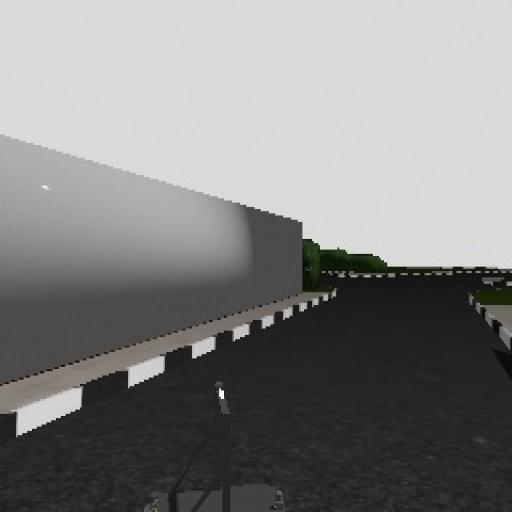huskya200: (116, 372, 291, 512)
